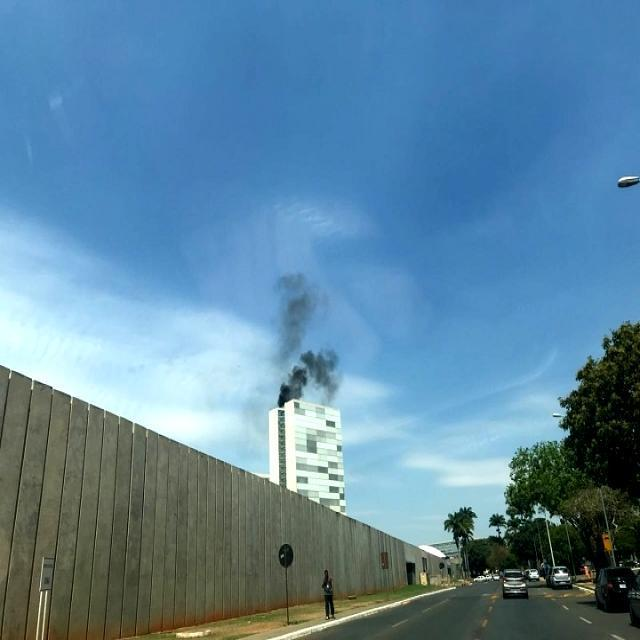Smoke: (264, 266, 346, 404)
